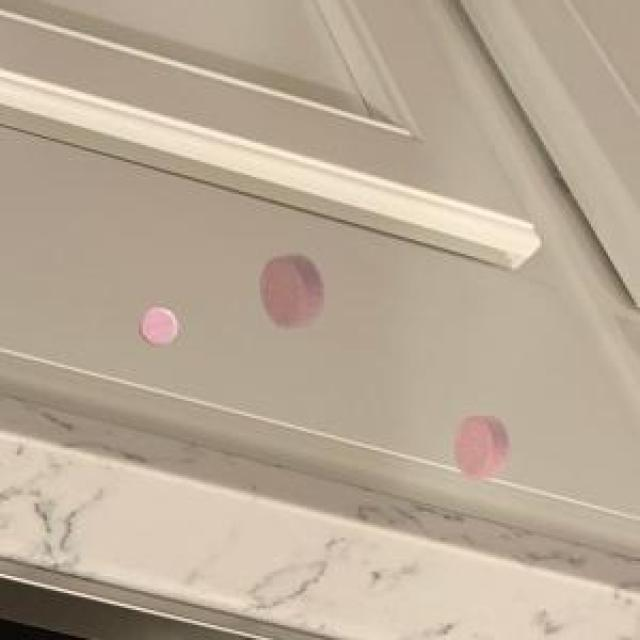Kremil_S: (253, 242, 338, 333), (440, 406, 525, 490), (132, 299, 187, 355)
